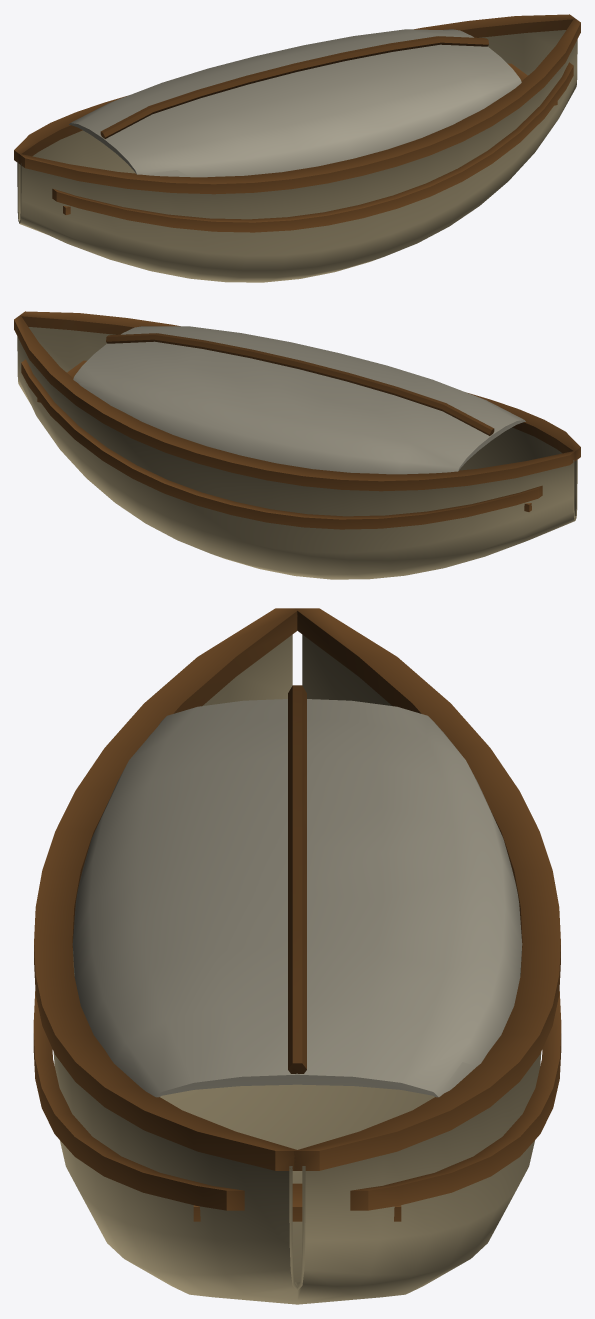
Rendered from lifeboat-collapsible.glb.
3 views of the same model, one above another, from view 1: azimuth 30°, elevation 25°; view 2: azimuth 150°, elevation 25°; view 3: azimuth 270°, elevation 25° (orthographic). The views are drawn at different scales.
Parts seen in each view (by area): view 1: collapsible, boatCover, gunwale; view 2: collapsible, boatCover, gunwale; view 3: boatCover, gunwale, collapsible.
Boxes of the visible parts, x1,y1,x2,y2 form: collapsible: (17,30,577,282); boatCover: (69,29,521,177); gunwale: (14,14,580,232); collapsible: (17,327,577,579); boatCover: (73,326,525,474); gunwale: (14,311,580,529); boatCover: (72,699,522,1097); gunwale: (33,608,561,1221); collapsible: (53,634,541,1304).
Size of the model in its own units: 0.9332 by 0.2981 by 0.3837.
